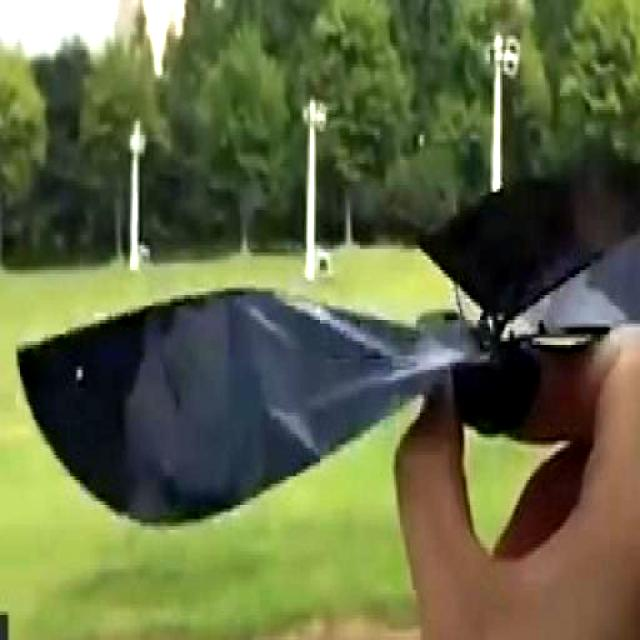airplane: (18, 142, 640, 538)
